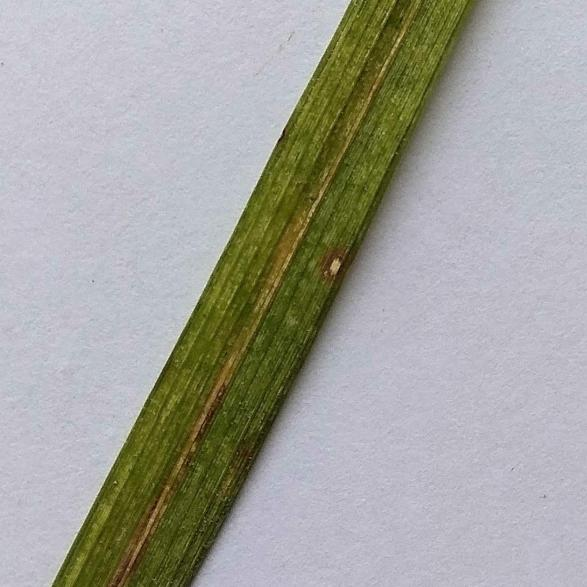Leaf_smut: (310, 230, 354, 284)
